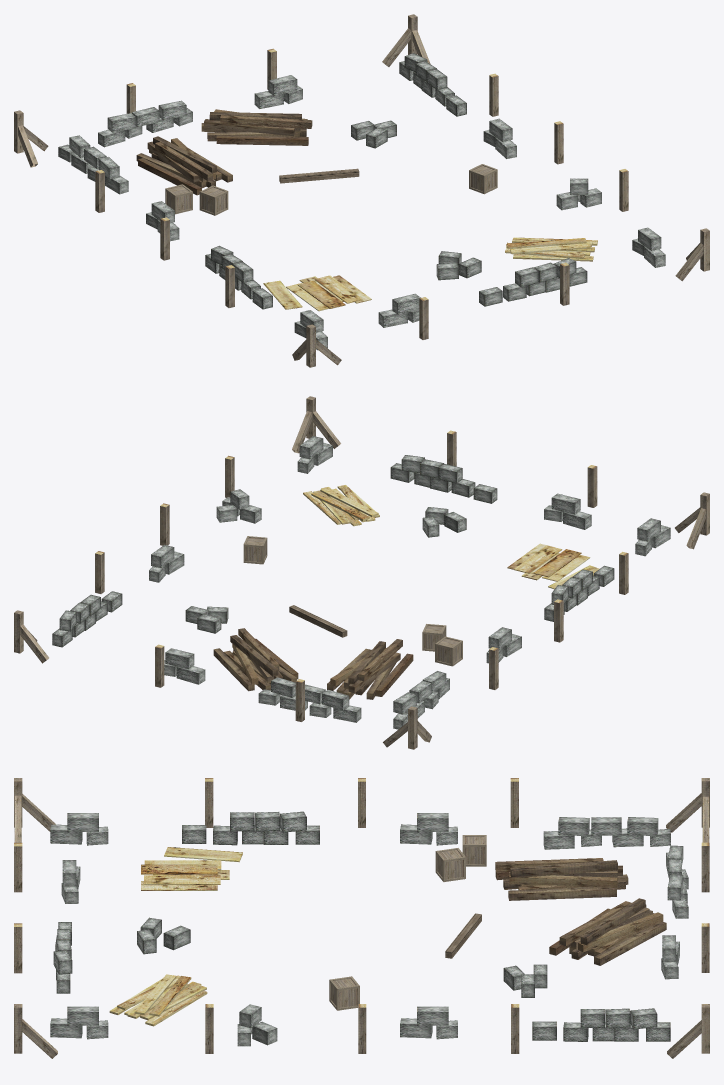
Rendered from fndn_7x9.glb.
The picture shows the model from 3 angles, top to bottom: view 1: azimuth 30°, elevation 25°; view 2: azimuth 150°, elevation 25°; view 3: azimuth 270°, elevation 25°; orthographic projection. The views are drawn at different scales.
Visible parts, largest first — view 1: fndn_7x9_part17, fndn_7x9_part16, fndn_7x9_part18, fndn_7x9_part51, fndn_7x9_part19, fndn_7x9_part38, fndn_7x9_part50, fndn_7x9_part61, fndn_7x9_part36, fndn_7x9_part4, fndn_7x9_part37, fndn_7x9_part35 (+9 smaller); view 2: fndn_7x9_part16, fndn_7x9_part17, fndn_7x9_part51, fndn_7x9_part18, fndn_7x9_part19, fndn_7x9_part38, fndn_7x9_part61, fndn_7x9_part36, fndn_7x9_part50, fndn_7x9_part3, fndn_7x9_part37, fndn_7x9_part49 (+8 smaller); view 3: fndn_7x9_part16, fndn_7x9_part17, fndn_7x9_part18, fndn_7x9_part38, fndn_7x9_part19, fndn_7x9_part37, fndn_7x9_part35, fndn_7x9_part49, fndn_7x9_part39, fndn_7x9_part51, fndn_7x9_part36, fndn_7x9_part1 (+19 smaller).
Part boxes in pixels (<box>): fndn_7x9_part17: <box>201,109,312,145</box>; fndn_7x9_part16: <box>136,136,232,195</box>; fndn_7x9_part18: <box>263,275,371,311</box>; fndn_7x9_part51: <box>98,100,192,147</box>; fndn_7x9_part19: <box>505,237,597,261</box>; fndn_7x9_part38: <box>58,135,128,194</box>; fndn_7x9_part50: <box>254,75,302,108</box>; fndn_7x9_part61: <box>378,293,420,327</box>; fndn_7x9_part36: <box>556,178,601,210</box>; fndn_7x9_part4: <box>382,14,430,66</box>; fndn_7x9_part37: <box>632,227,665,267</box>; fndn_7x9_part35: <box>483,118,516,158</box>; fndn_7x9_part16: <box>327,639,413,699</box>; fndn_7x9_part17: <box>213,628,298,691</box>; fndn_7x9_part51: <box>258,677,361,722</box>; fndn_7x9_part18: <box>507,543,599,589</box>; fndn_7x9_part19: <box>303,485,379,526</box>; fndn_7x9_part38: <box>393,671,449,729</box>; fndn_7x9_part61: <box>544,493,591,529</box>; fndn_7x9_part36: <box>216,489,261,523</box>; fndn_7x9_part50: <box>164,648,205,684</box>; fndn_7x9_part3: <box>292,396,340,453</box>; fndn_7x9_part37: <box>297,436,332,473</box>; fndn_7x9_part49: <box>635,518,670,556</box>; fndn_7x9_part16: <box>495,858,628,900</box>; fndn_7x9_part17: <box>549,898,666,965</box>; fndn_7x9_part18: <box>141,847,242,890</box>; fndn_7x9_part38: <box>543,817,670,849</box>; fndn_7x9_part19: <box>109,974,207,1026</box>; fndn_7x9_part37: <box>50,1006,108,1039</box>; fndn_7x9_part35: <box>400,1006,457,1039</box>; fndn_7x9_part49: <box>50,813,108,845</box>; fndn_7x9_part39: <box>400,813,457,845</box>; fndn_7x9_part51: <box>666,845,688,918</box>; fndn_7x9_part36: <box>237,1004,277,1046</box>; fndn_7x9_part1: <box>666,778,709,842</box>.
Bounding box in the file's own units: 5.97 × 0.971 × 7.65.
4 materials, 4 textured.
